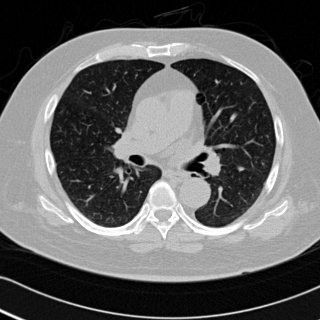nodule: (237, 166, 243, 172)
